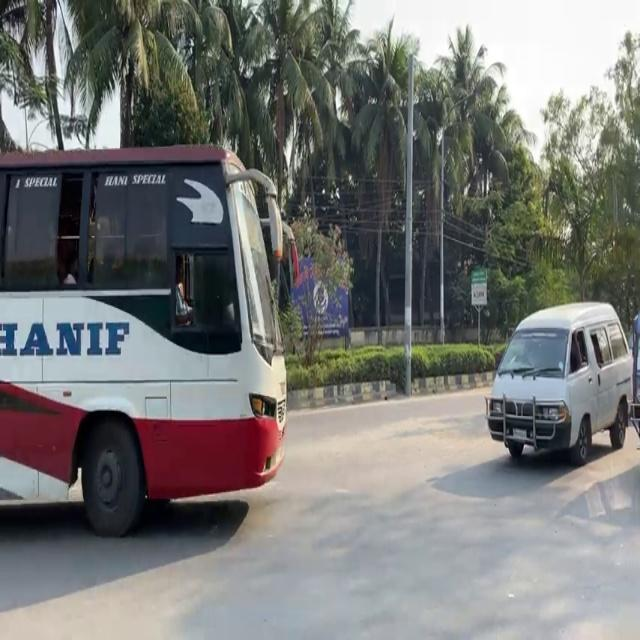Broken-road: (476, 294, 640, 478)
Construction-barrier: (290, 366, 499, 414), (287, 367, 497, 413), (0, 492, 249, 514)
Light-pole: (402, 53, 415, 395)
Traffic-cone: (0, 142, 299, 537)
